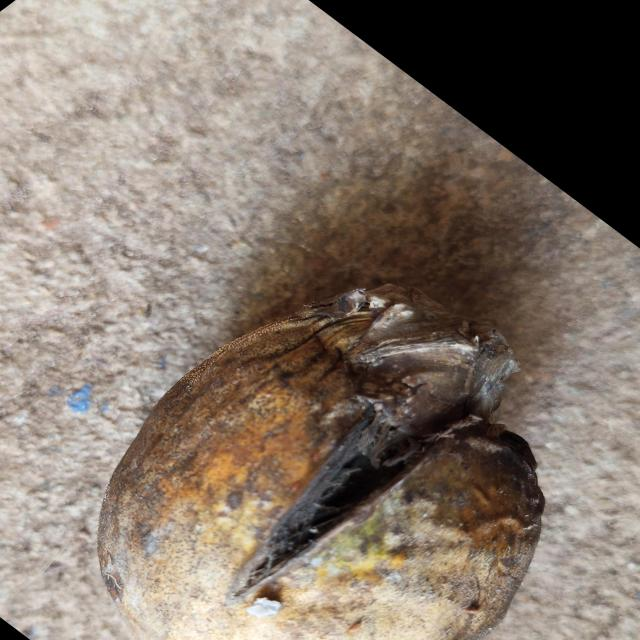damaged: (95, 288, 546, 640)
